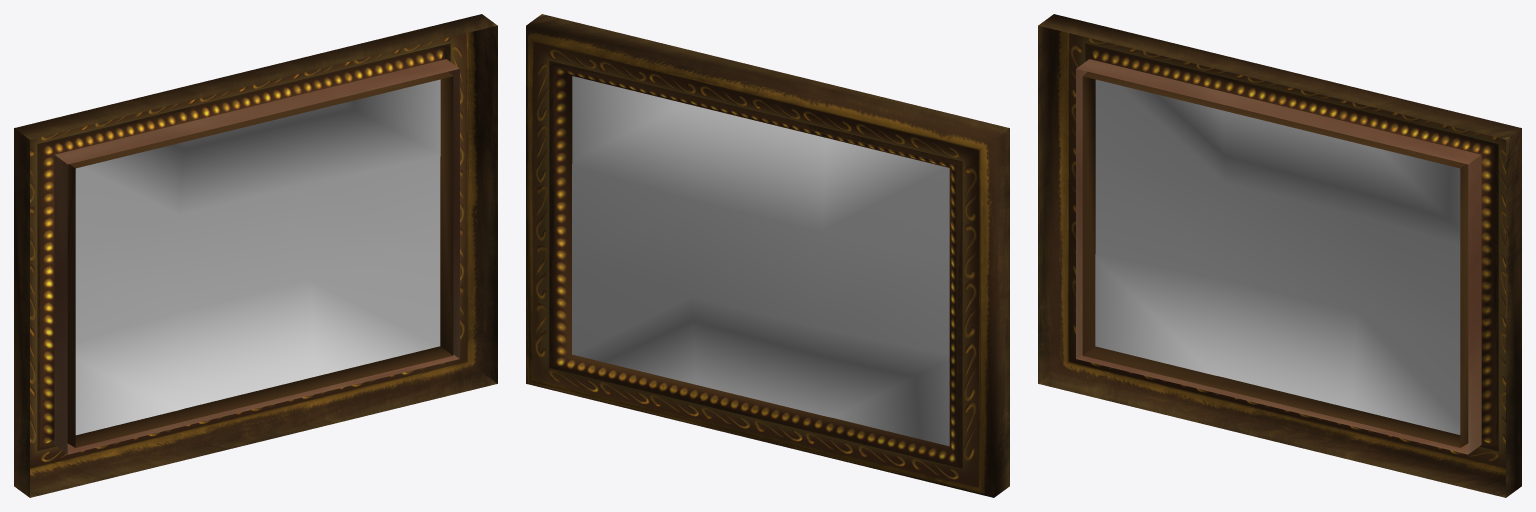
The model's file is PictureFence2.fbx.
3 renders of one model, left to right at view 1: azimuth 30°, elevation 25°; view 2: azimuth 150°, elevation 25°; view 3: azimuth 330°, elevation 25°, orthographic.
Parts seen in each view (by area): view 1: pictureframe1; view 2: pictureframe1; view 3: pictureframe1.
Boxes of the visible parts, x1,y1,x2,y2 form: pictureframe1: (14, 14, 497, 497); pictureframe1: (526, 14, 1009, 497); pictureframe1: (1038, 14, 1521, 497).
Size of the model in its own units: 691 by 505 by 55.32.
